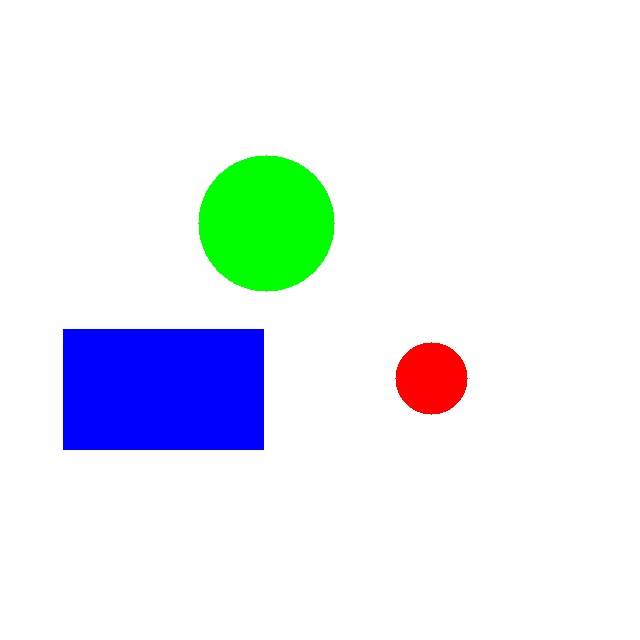cartao: (63, 329, 263, 449)
rosca_externa: (198, 155, 334, 291)
rosca_interna: (395, 342, 467, 414)
